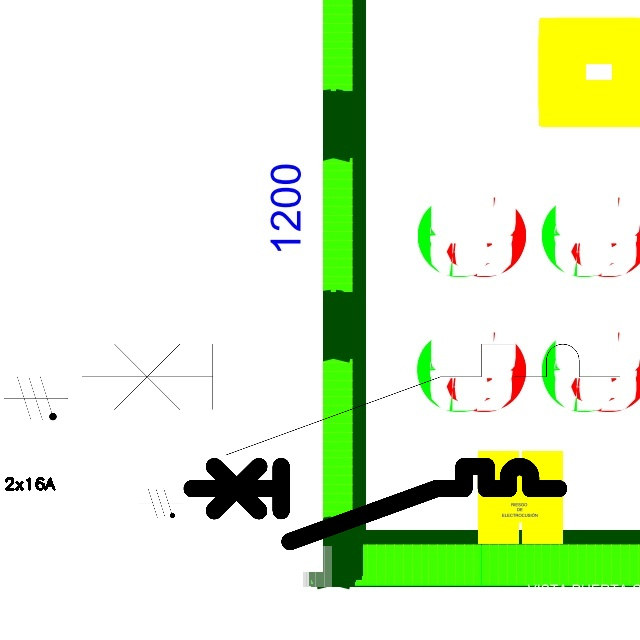interruptor_termomagnetico: (68, 330, 634, 468), (182, 457, 567, 551)
